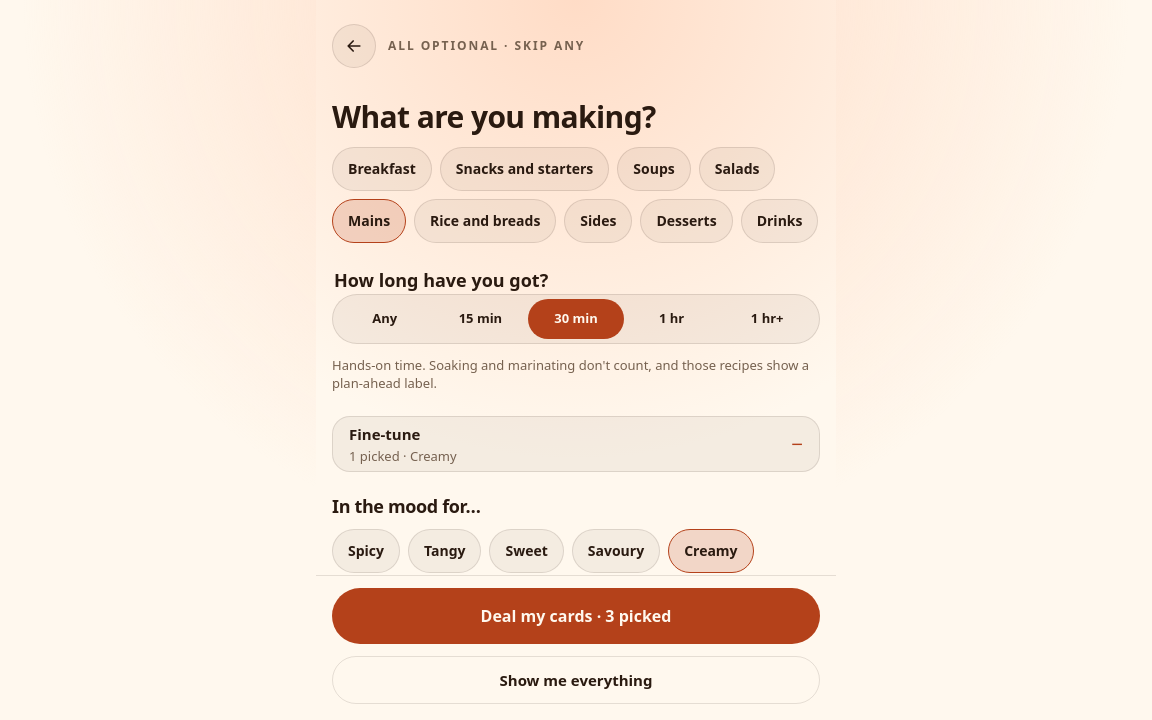
Test: the last picks come back, and Show me everything clears them
The width and height of the screenshot is (1152, 720).
Expected: the heading "What are you making?" is shown, [332, 96, 656, 137]
Expected: the radio button labelled "30 min" is checked, [528, 298, 624, 338]
Click the button "Show me everything": {"x": 576, "y": 680} [332, 656, 820, 704]
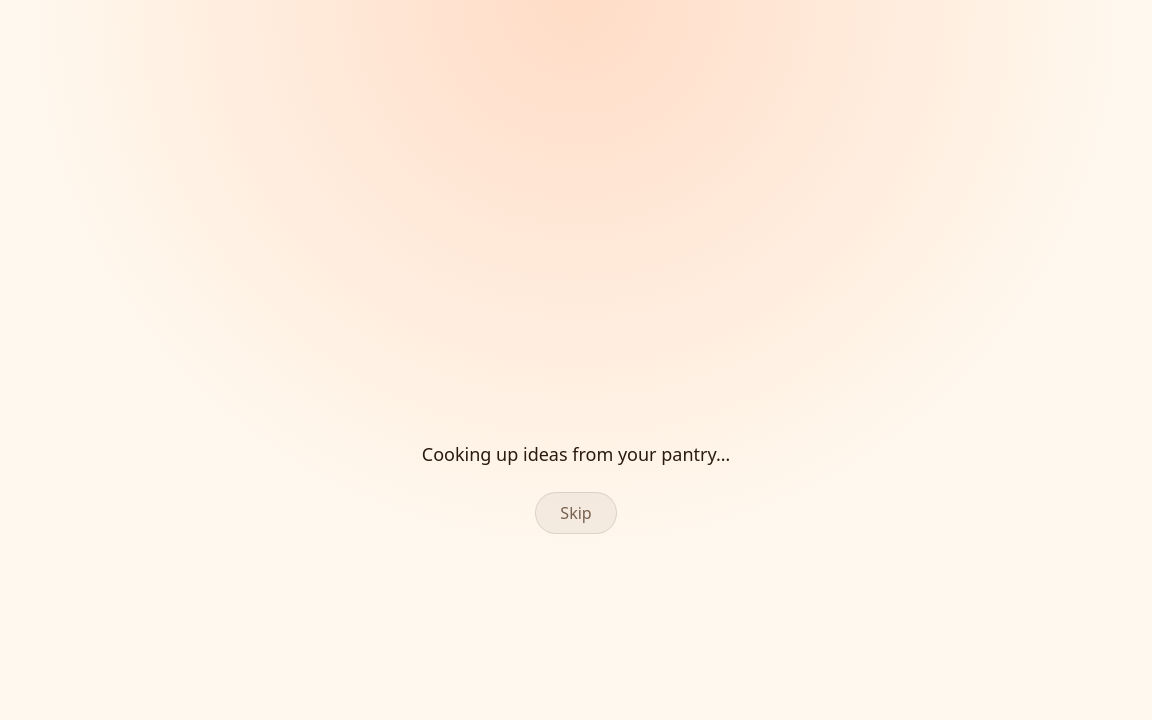
Expected: the text "Cooking up ideas from your pantry…" is shown, [422, 440, 730, 468]
